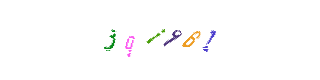1: (151, 0, 231, 80)
3: (87, 0, 167, 80)
6: (148, 0, 228, 80)
9: (126, 0, 206, 80)
I: (119, 0, 199, 80)
Q: (89, 0, 169, 80)
